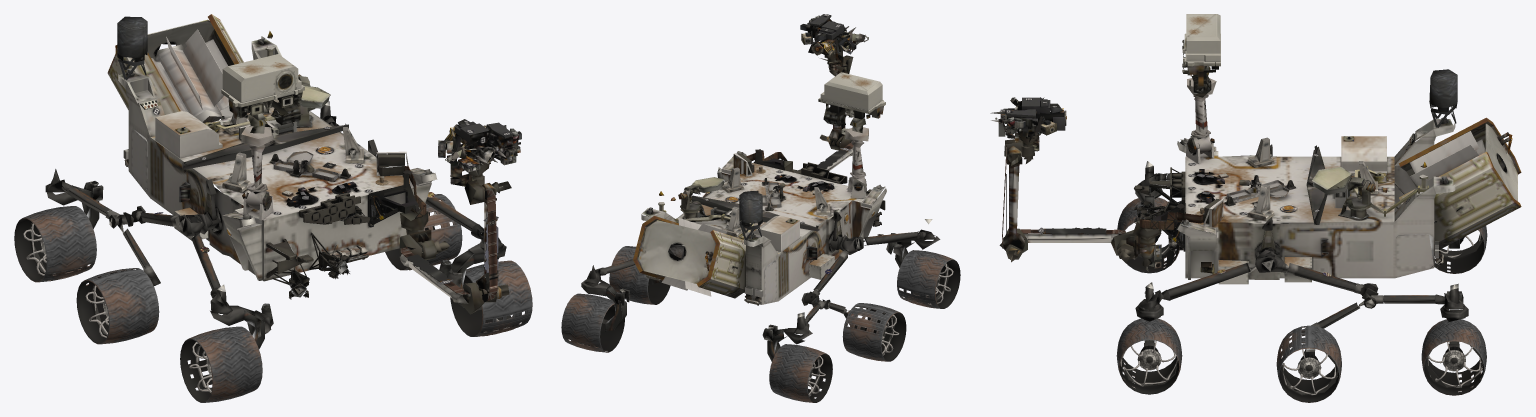
Rendered from curiosity.glb.
The picture shows the model from 3 angles, left to right: view 1: azimuth 30°, elevation 25°; view 2: azimuth 150°, elevation 25°; view 3: azimuth 270°, elevation 25°; orthographic projection. The views are drawn at different scales.
Parts seen in each view (by area): view 1: MSL; view 2: MSL; view 3: MSL.
Boxes of the visible parts, x1,y1,x2,y2 form: MSL: (14, 14, 532, 402); MSL: (561, 14, 960, 402); MSL: (990, 14, 1521, 402).
Size of the model in its own units: 2.78 by 2.22 by 3.94.
9 materials, 8 textured.
